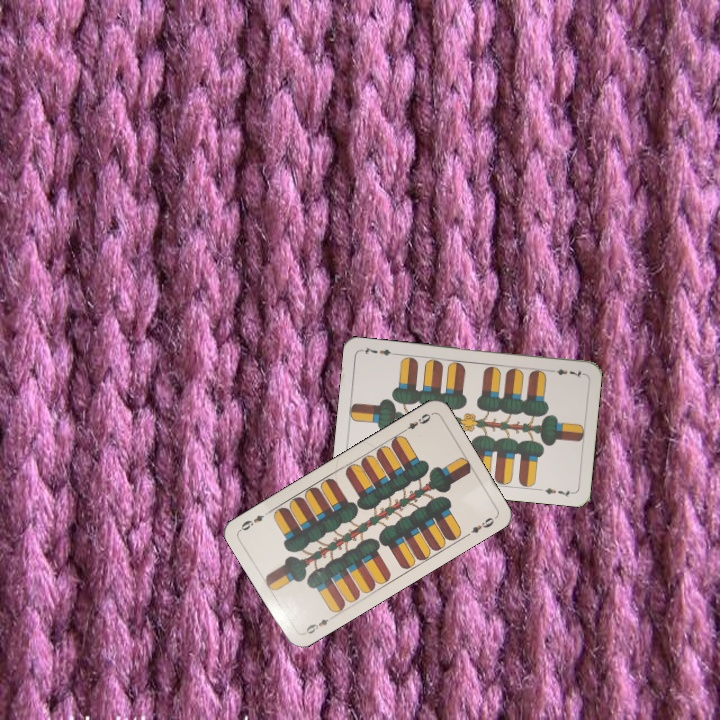E7: (545, 365, 586, 380)
E9: (398, 409, 435, 435), (299, 612, 336, 637)
